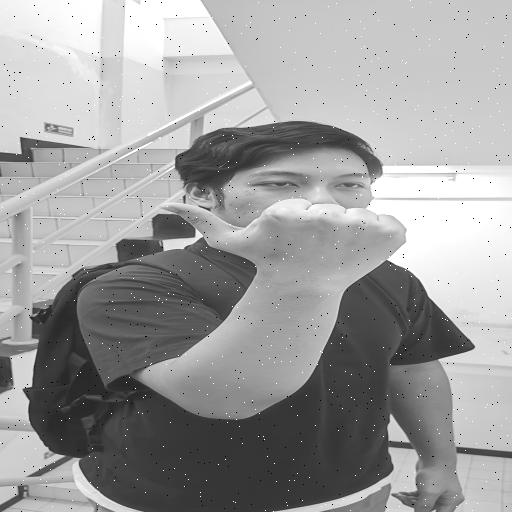back: (138, 181, 448, 279)
